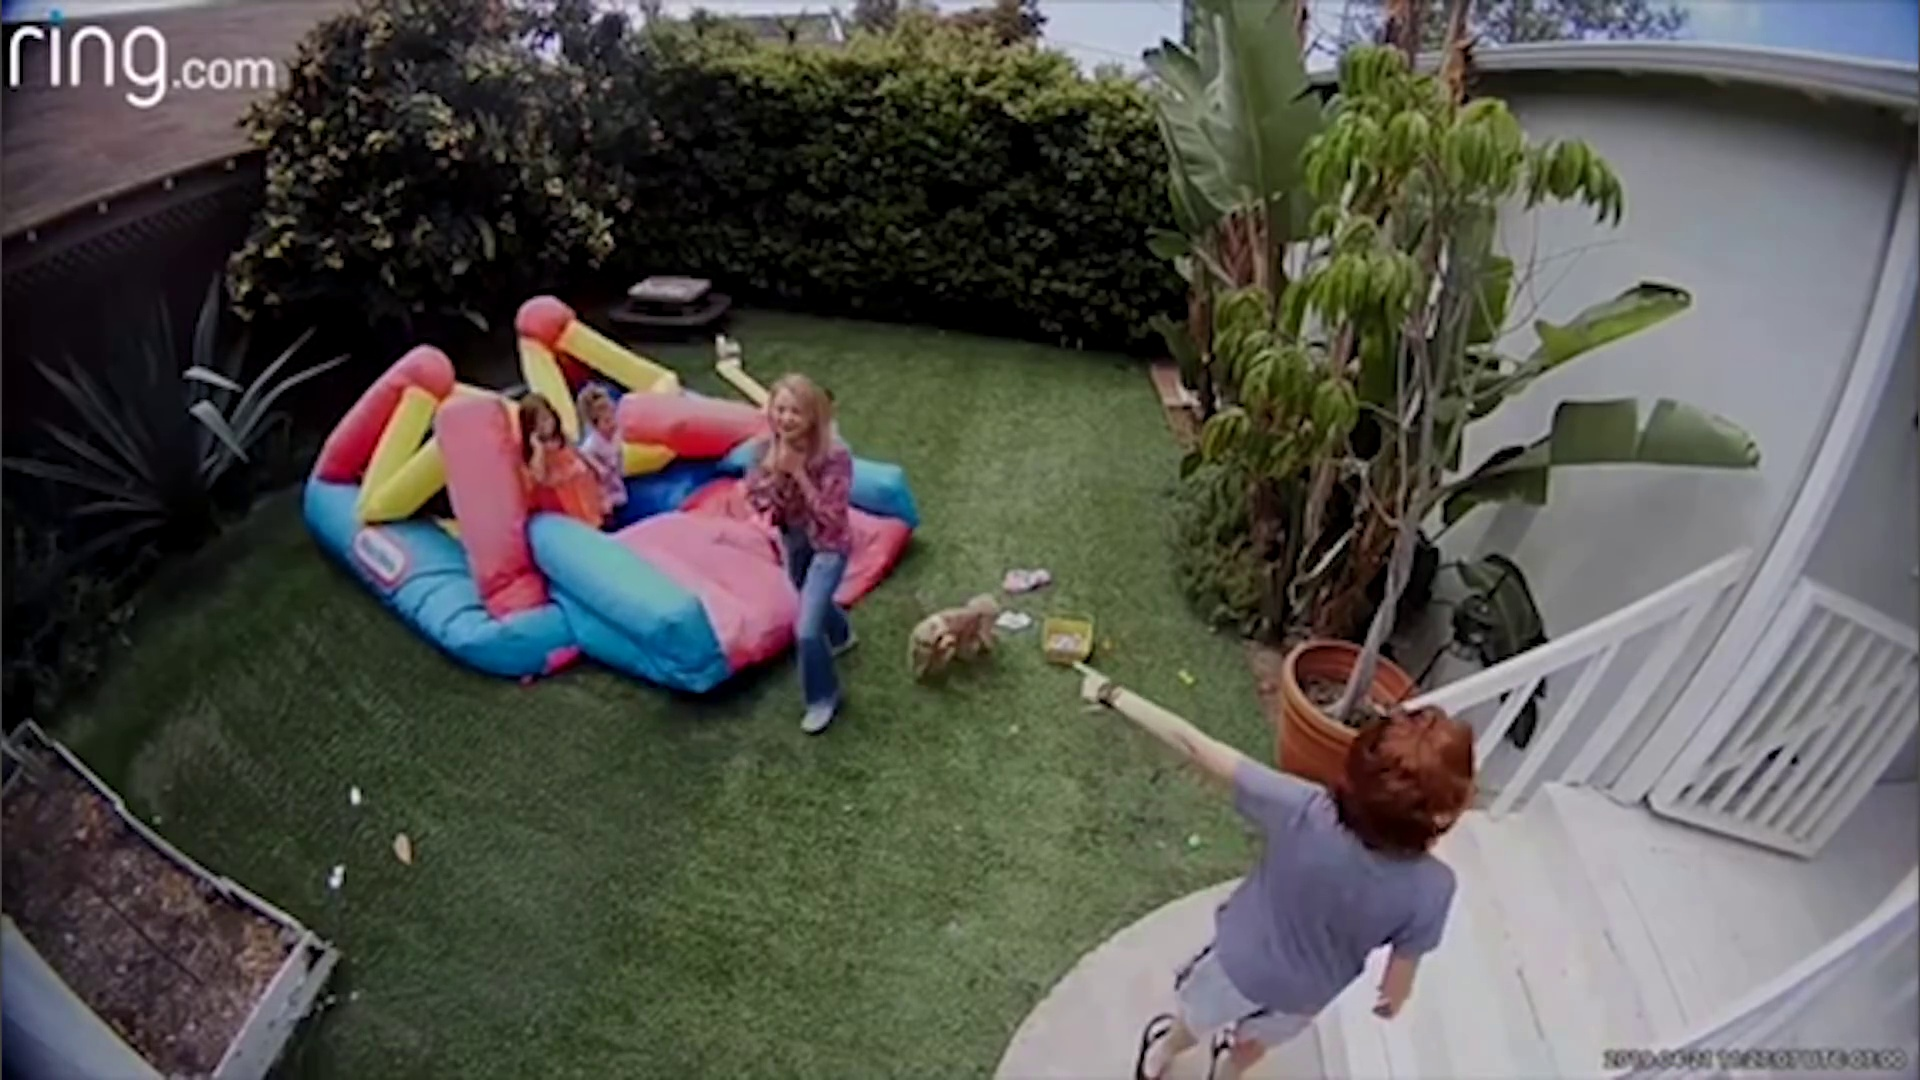face: (770, 396, 810, 444), (527, 412, 556, 443), (596, 412, 622, 437)
